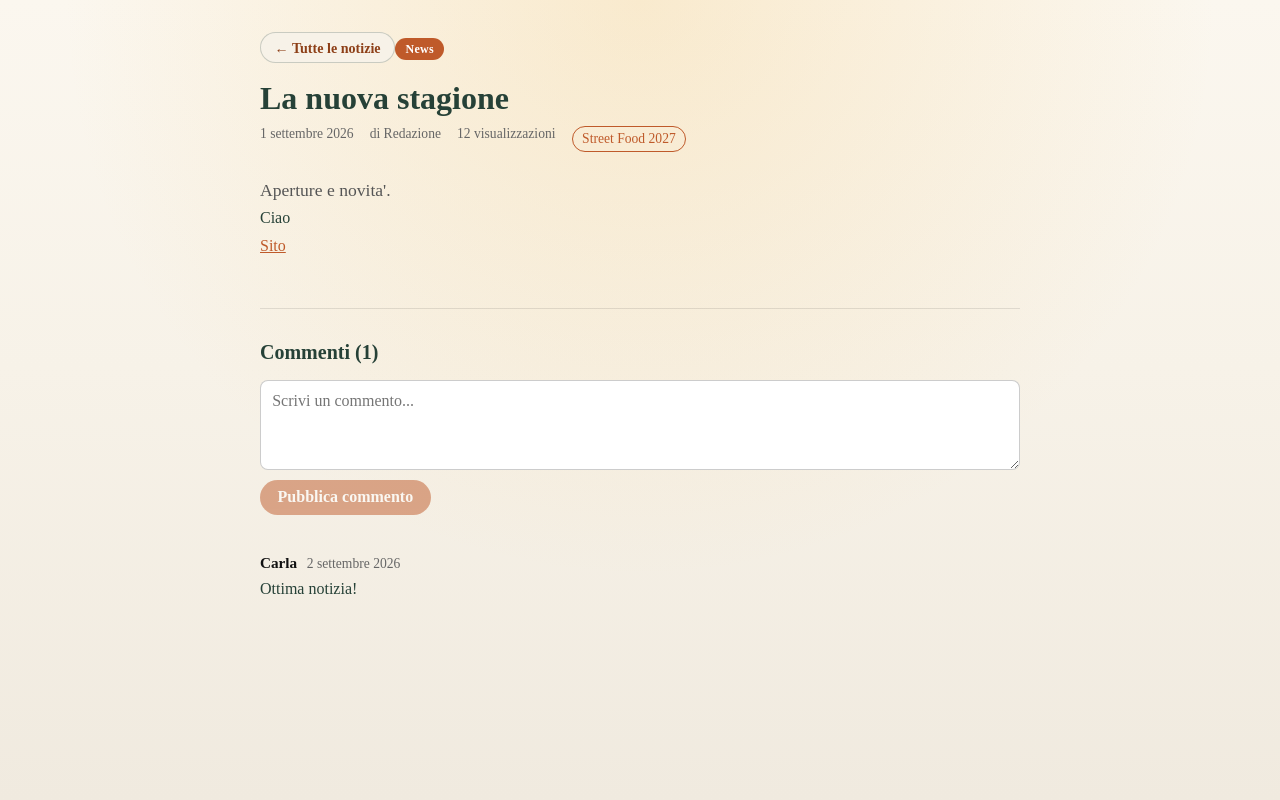
Test: BlogPostPage — dettaglio notizia › l'utente autenticato pubblica un commento e lo vede subito in lista
The image size is (1280, 800).
Type "Commento nuovo" into the text box with placeholder "Scrivi un commento..." at (640,425), box [260, 380, 1020, 470]
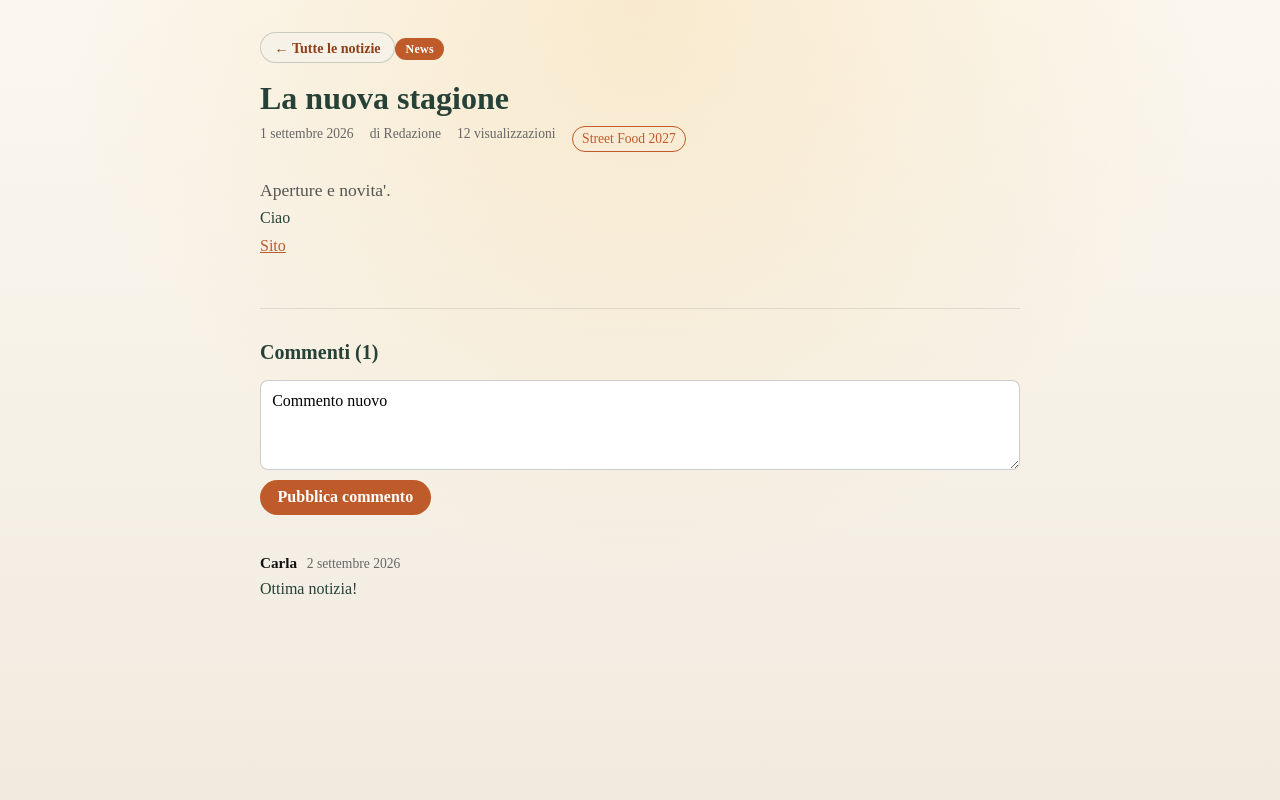
Click the button "Pubblica commento" at (345,497), box [260, 480, 431, 515]
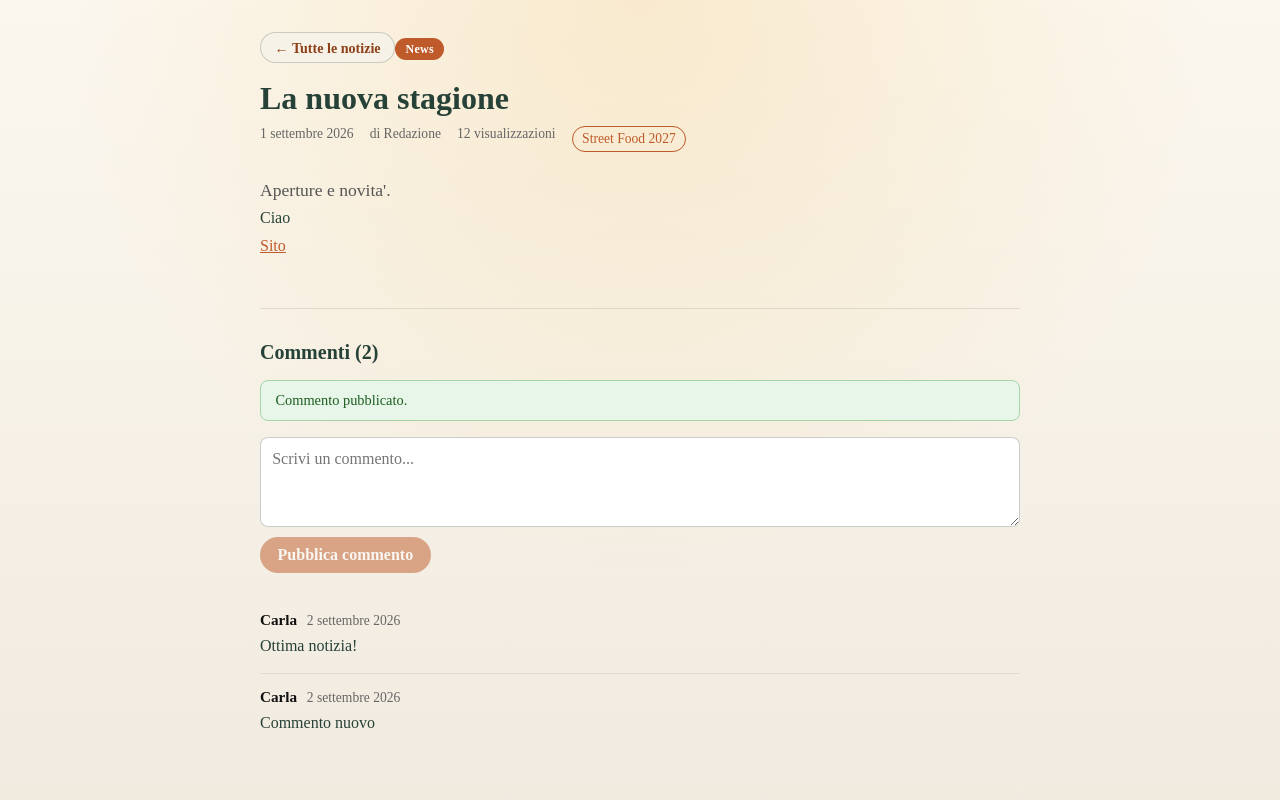
Expected: the text "Commento nuovo" is shown, [260, 714, 375, 731]
Expected: the text "Commento pubblicato." is shown, [260, 380, 1020, 421]
